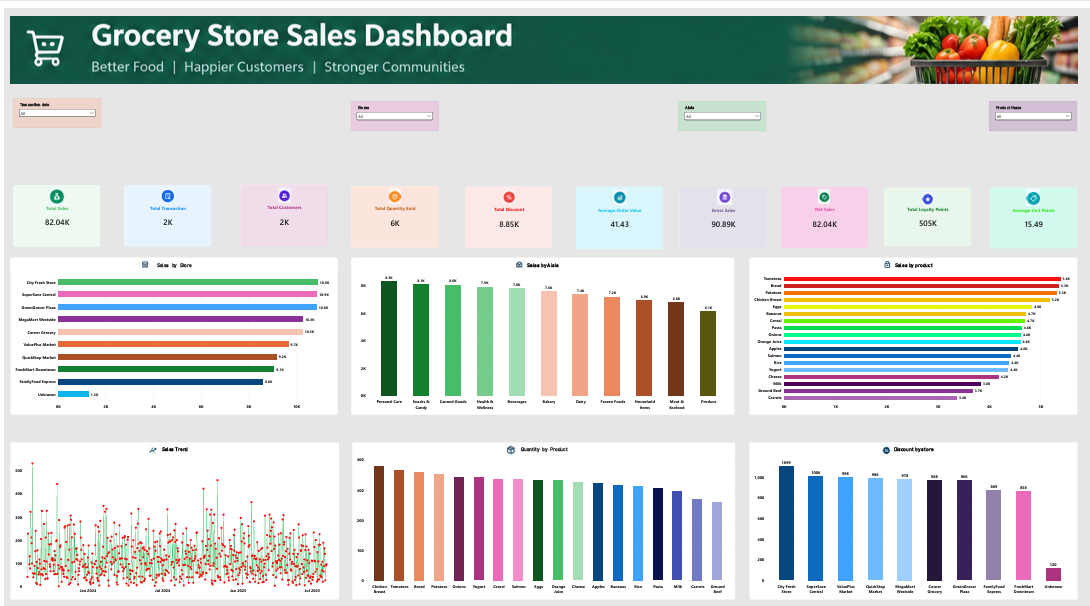

The page's visual inventory and layout, read from the dashboard file:
{"tool":"powerbi","page":{"name":"Page 1","canvas":[3840,2160],"ordinal":0},"visuals":[{"type":"image","box":[20,27.7,3793.8,240],"z":0},{"type":"cardVisual","fields":{"Data":["Sum(grocessory_stores store_KPI.TotalSales)"]},"box":[30.9,627.9,311.8,219.1],"z":1000},{"type":"cardVisual","fields":{"Data":["Sum(grocessory_stores store_KPI.TotalTransactions)"]},"box":[425,627.9,311.8,219.1],"z":2000},{"type":"cardVisual","fields":{"Data":["Sum(grocessory_stores store_KPI.TotalQuantitySold)"]},"box":[1232.4,630.9,311.8,219.1],"z":3000},{"type":"cardVisual","fields":{"Data":["Sum(grocessory_stores store_KPI.TotalCustomers)"]},"box":[839.2,625,311.8,222.1],"z":4000},{"type":"columnChart","title":"Quantity  by  Product","fields":{"Category":["grocessory_stores stores.product_name"],"Y":["Sum(grocessory_stores stores.quantity)"]},"box":[1235,1542.5,1363.3,560],"z":5000},{"type":"barChart","title":"Sales  by  Store ","fields":{"Category":["grocessory_stores stores.Stores"],"Y":["Sum(grocessory_stores stores.total_amount)"]},"box":[20,885,1165,560],"z":6000},{"type":"columnChart","title":"Sales  by  Aisle","fields":{"Category":["grocessory_stores stores.aisle"],"Y":["Sum(grocessory_stores stores.final_amount)"]},"box":[1232.5,885,1362.5,560],"z":7000},{"type":"barChart","title":"Sales by product","fields":{"Category":["grocessory_stores stores.product_name"],"Y":["Sum(grocessory_stores stores.final_amount)"]},"box":[2647.5,885,1167.1,560],"z":8000},{"type":"lineChart","title":"Sales  Trend","fields":{"Category":["grocessory_stores stores.transaction_date"],"Y":["Sum(grocessory_stores stores.final_amount)"]},"box":[20,1542.5,1170,560],"z":9000},{"type":"columnChart","title":"Discount  by  store","fields":{"Category":["grocessory_stores stores.Stores"],"Y":["Sum(grocessory_stores stores.discount_amount)"]},"box":[2647.5,1542.5,1167.5,560],"z":10000},{"type":"cardVisual","fields":{"Data":["Sum(grocessory_stores store_KPI.TotalDiscount)"]},"box":[1638.2,632.4,311.8,219.1],"z":11000},{"type":"cardVisual","fields":{"Data":["Sum(grocessory_stores store_KPI.AverageOrderValue)"]},"box":[2030.9,633.8,311.8,223.5],"z":12000},{"type":"cardVisual","fields":{"Data":["Sum(grocessory_stores store_KPI.GrossSales)"]},"box":[2400,633.8,311.8,223.5],"z":13000},{"type":"cardVisual","fields":{"Data":["Sum(grocessory_stores store_KPI.NetSales)"]},"box":[2760.3,633.8,311.8,219.1],"z":14000},{"type":"cardVisual","fields":{"Data":["Sum(grocessory_stores store_KPI.TotalLoyaltyPoints)"]},"box":[3126.5,636.8,311.8,210.3],"z":15000},{"type":"cardVisual","fields":{"Data":["Sum(grocessory_stores store_KPI.AverageUnitPrice)"]},"box":[3502.9,636.8,311.8,217.6],"z":16000},{"type":"image","box":[470,895.7,65.7,42.9],"z":17000},{"type":"image","box":[1810,885.7,40.9,49.1],"z":18000},{"type":"image","box":[3112.9,891.4,51.4,37.1],"z":19000},{"type":"image","box":[502.6,1548.7,49.3,42.1],"z":20000},{"type":"image","box":[1771.1,1547.8,58.9,43.3],"z":21000},{"type":"image","box":[3107.5,1550,56,40],"z":22000},{"type":"image","box":[157,634,60,63.1],"z":23000},{"type":"image","box":[547.6,636.6,65.9,53.7],"z":24000},{"type":"image","box":[950,636.7,90,53.3],"z":25000},{"type":"image","box":[2156.7,640,60,58.9],"z":26000},{"type":"image","box":[1764.4,640,61.1,53.3],"z":27000},{"type":"image","box":[1353.3,640,70,53.3],"z":28000},{"type":"image","box":[2521.1,641.1,77.8,58.9],"z":29000},{"type":"image","box":[3245,647.5,75,52.5],"z":30000},{"type":"image","box":[3612.8,641.5,91.7,64.2],"z":31000},{"type":"image","box":[2885,644.2,60,49.2],"z":32000},{"type":"slicer","fields":{"Values":["grocessory_stores stores.transaction_date"]},"box":[31.1,318.9,312.2,104.4],"z":33000},{"type":"slicer","fields":{"Values":["grocessory_stores stores.Stores"]},"box":[1232.5,330,311.2,105],"z":34000},{"type":"slicer","fields":{"Values":["grocessory_stores stores.aisle"]},"box":[2397.5,330,311.2,105],"z":35000},{"type":"slicer","fields":{"Values":["grocessory_stores stores.product_name"]},"box":[3502.5,330,311.2,105],"z":36000}]}

Visuals, with their boxes in screenshot pixels (x1, y1, x2, y2), scaled from the page's 3840x2160 canvas onto the 1090x606 screenshot:
image: Rect(6, 8, 1083, 75)
cardVisual - Sum(grocessory_stores store_KPI.TotalSales): Rect(9, 176, 97, 238)
cardVisual - Sum(grocessory_stores store_KPI.TotalTransactions): Rect(121, 176, 209, 238)
cardVisual - Sum(grocessory_stores store_KPI.TotalQuantitySold): Rect(350, 177, 438, 238)
cardVisual - Sum(grocessory_stores store_KPI.TotalCustomers): Rect(238, 175, 327, 238)
"Quantity  by  Product" columnChart: Rect(351, 433, 738, 590)
"Sales  by  Store " barChart: Rect(6, 248, 336, 405)
"Sales  by  Aisle" columnChart: Rect(350, 248, 737, 405)
"Sales by product" barChart: Rect(752, 248, 1083, 405)
"Sales  Trend" lineChart: Rect(6, 433, 338, 590)
"Discount  by  store" columnChart: Rect(752, 433, 1083, 590)
cardVisual - Sum(grocessory_stores store_KPI.TotalDiscount): Rect(465, 177, 554, 239)
cardVisual - Sum(grocessory_stores store_KPI.AverageOrderValue): Rect(576, 178, 665, 241)
cardVisual - Sum(grocessory_stores store_KPI.GrossSales): Rect(681, 178, 770, 241)
cardVisual - Sum(grocessory_stores store_KPI.NetSales): Rect(784, 178, 872, 239)
cardVisual - Sum(grocessory_stores store_KPI.TotalLoyaltyPoints): Rect(887, 179, 976, 238)
cardVisual - Sum(grocessory_stores store_KPI.AverageUnitPrice): Rect(994, 179, 1083, 240)
image: Rect(133, 251, 152, 263)
image: Rect(514, 248, 525, 262)
image: Rect(884, 250, 898, 260)
image: Rect(143, 434, 157, 446)
image: Rect(503, 434, 519, 446)
image: Rect(882, 435, 898, 446)
image: Rect(45, 178, 62, 196)
image: Rect(155, 179, 174, 194)
image: Rect(270, 179, 295, 194)
image: Rect(612, 180, 629, 196)
image: Rect(501, 180, 518, 195)
image: Rect(384, 180, 404, 195)
image: Rect(716, 180, 738, 196)
image: Rect(921, 182, 942, 196)
image: Rect(1026, 180, 1052, 198)
image: Rect(819, 181, 836, 195)
slicer - grocessory_stores stores.transaction_date: Rect(9, 89, 97, 119)
slicer - grocessory_stores stores.Stores: Rect(350, 93, 438, 122)
slicer - grocessory_stores stores.aisle: Rect(681, 93, 769, 122)
slicer - grocessory_stores stores.product_name: Rect(994, 93, 1083, 122)
